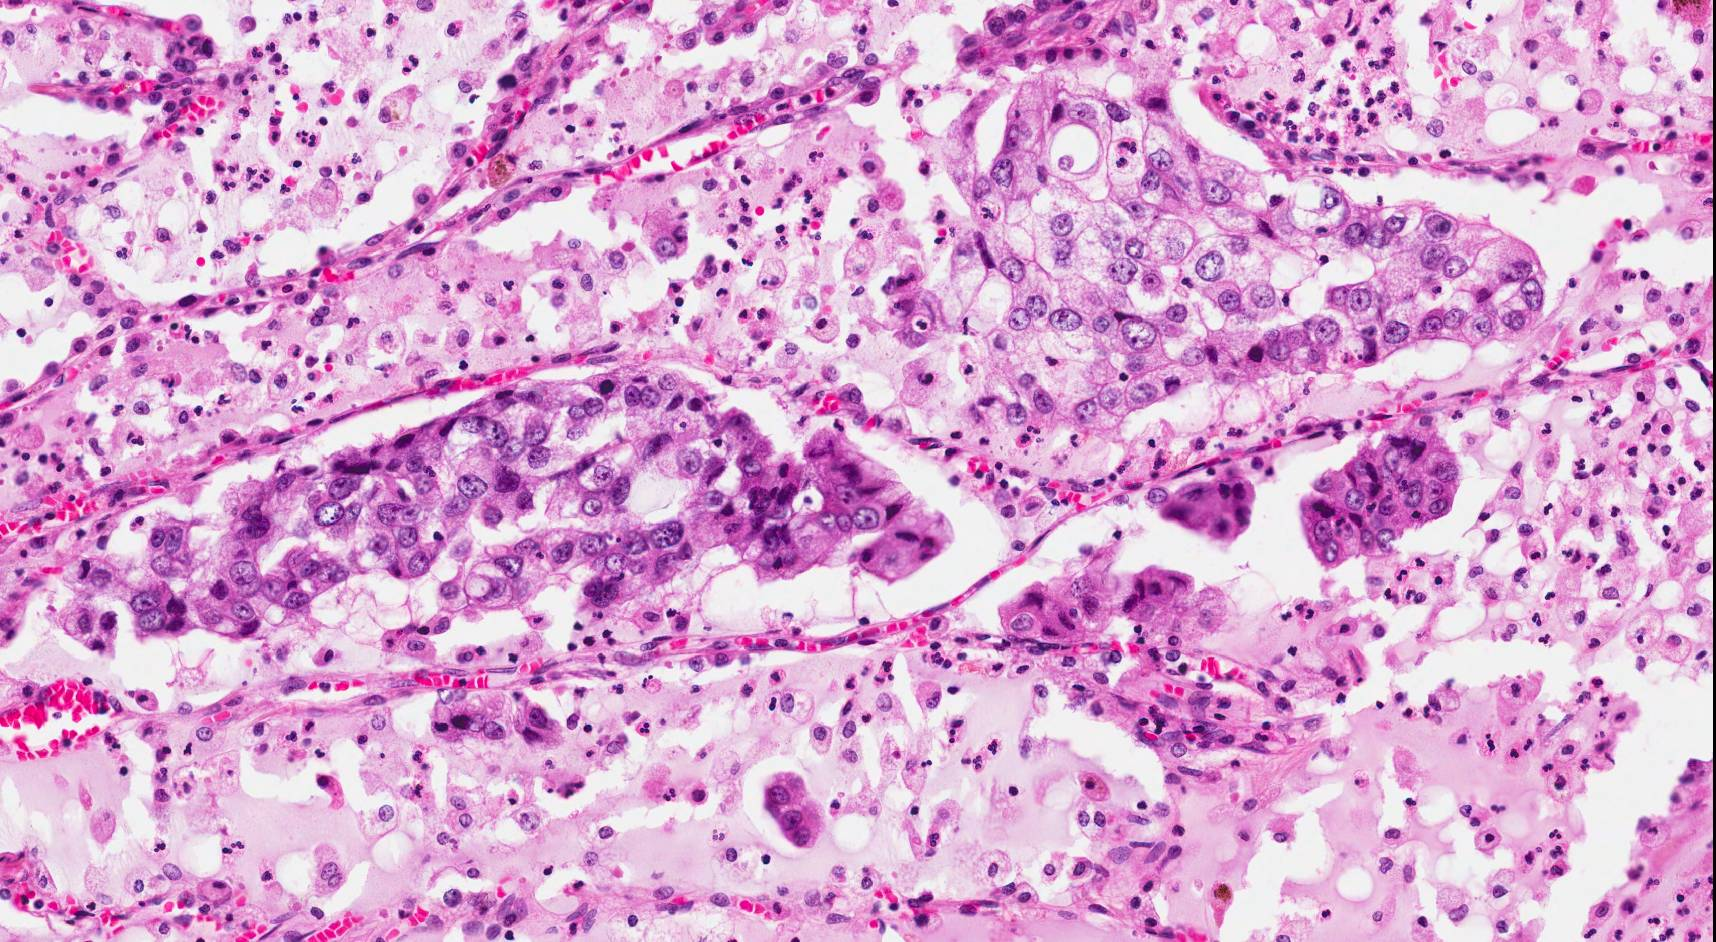stas: (56, 362, 956, 640), (963, 80, 1557, 431), (1299, 427, 1457, 567), (997, 548, 1199, 649), (428, 694, 566, 747), (766, 770, 823, 848)
